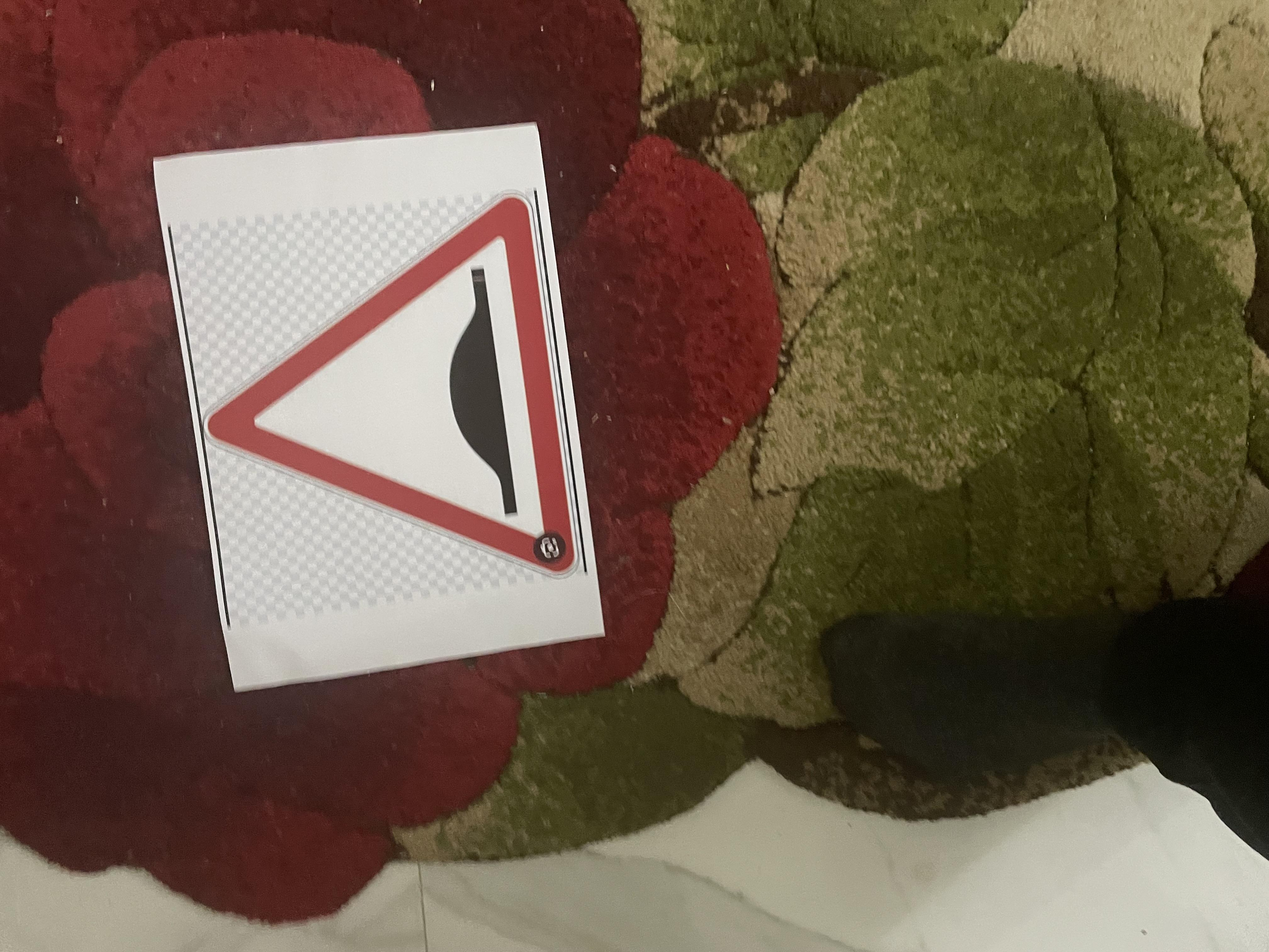Hump: (492, 154, 1029, 434)
